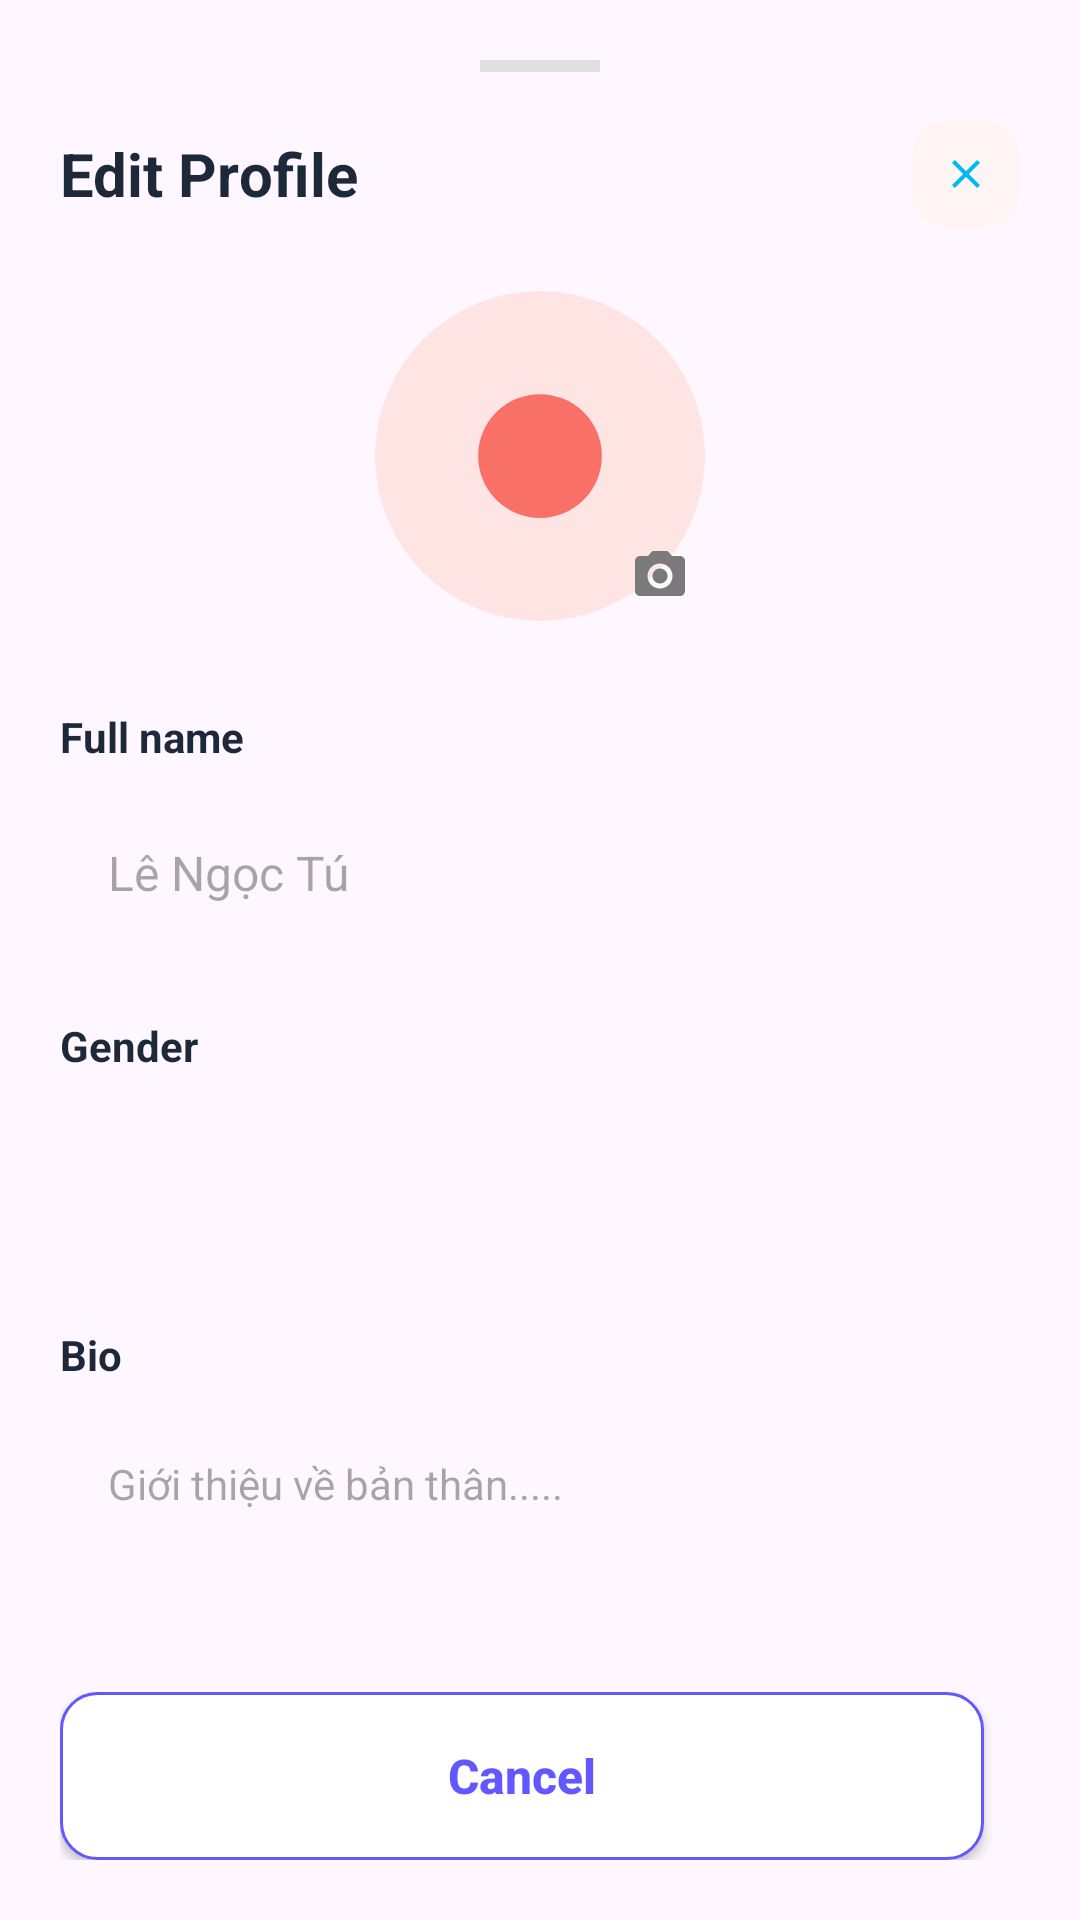

Screen size 1080px x 1920px. Icon name, then its center in pixels as [x,y]:
camera: [650,566]
close: [966,174]
